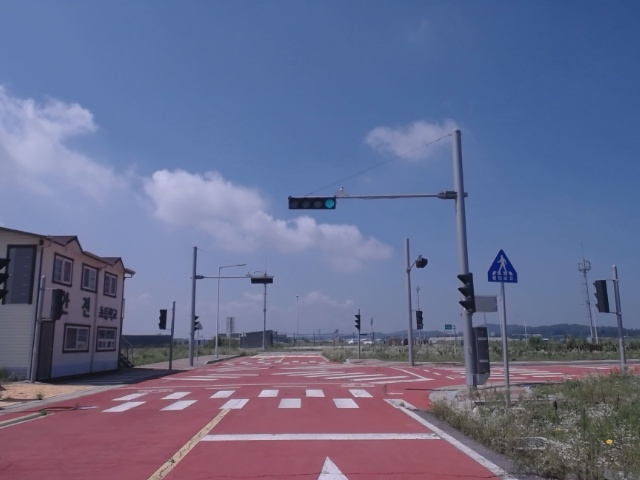straight_green_4: (287, 198, 338, 210)
